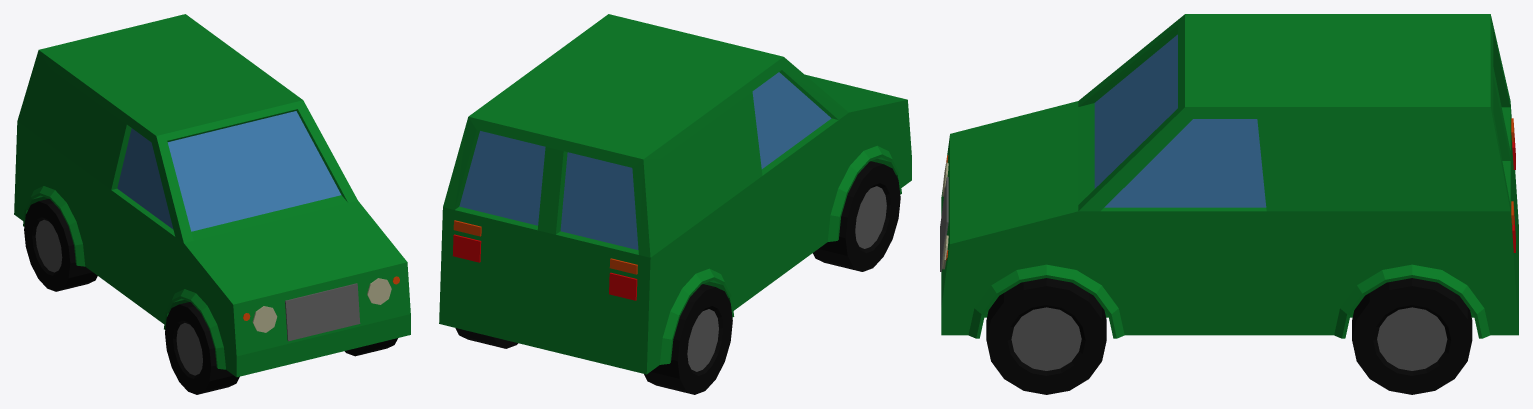
The model's file is car-microcargo-green.obj.
The picture shows the model from 3 angles, left to right: view 1: azimuth 30°, elevation 25°; view 2: azimuth 150°, elevation 25°; view 3: azimuth 270°, elevation 25°; orthographic projection. The views are drawn at different scales.
Parts seen in each view (by area): view 1: car-microcargo-green_Cube.596_carmaterial_green, car-microcargo-green_Cube.596_windows, car-microcargo-green_Cube.596_tires, car-microcargo-green_Cube.596_metal, car-microcargo-green_Cube.596_lights; view 2: car-microcargo-green_Cube.596_carmaterial_green, car-microcargo-green_Cube.596_windows, car-microcargo-green_Cube.596_tires, car-microcargo-green_Cube.596_metal, car-microcargo-green_Cube.596_lights.red, car-microcargo-green_Cube.596_lights.orange; view 3: car-microcargo-green_Cube.596_carmaterial_green, car-microcargo-green_Cube.596_windows, car-microcargo-green_Cube.596_tires, car-microcargo-green_Cube.596_metal.
Boxes of the visible parts, x1,y1,x2,y2 form: car-microcargo-green_Cube.596_carmaterial_green: [14, 14, 410, 377]; car-microcargo-green_Cube.596_windows: [117, 111, 341, 231]; car-microcargo-green_Cube.596_tires: [24, 199, 397, 394]; car-microcargo-green_Cube.596_metal: [35, 219, 360, 375]; car-microcargo-green_Cube.596_lights: [252, 278, 391, 332]; car-microcargo-green_Cube.596_carmaterial_green: [439, 14, 911, 374]; car-microcargo-green_Cube.596_windows: [459, 72, 831, 249]; car-microcargo-green_Cube.596_tires: [455, 161, 900, 394]; car-microcargo-green_Cube.596_metal: [687, 186, 886, 371]; car-microcargo-green_Cube.596_lights.red: [452, 234, 637, 300]; car-microcargo-green_Cube.596_lights.orange: [453, 220, 637, 274]; car-microcargo-green_Cube.596_carmaterial_green: [941, 14, 1518, 338]; car-microcargo-green_Cube.596_windows: [1094, 34, 1266, 207]; car-microcargo-green_Cube.596_tires: [986, 278, 1472, 394]; car-microcargo-green_Cube.596_metal: [940, 177, 1447, 370].
Bounding box in the file's own units: 0.8967 × 0.9513 × 1.82.
